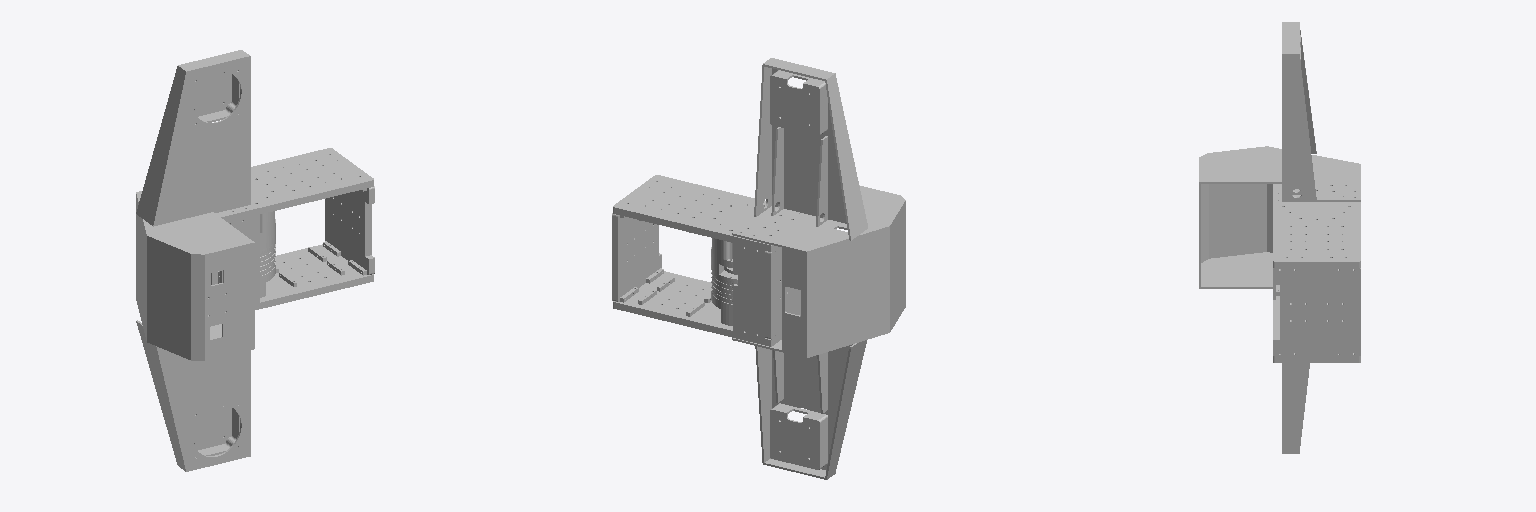
The model's file is lift.obj.
The picture shows the model from 3 angles: view 1: azimuth 30°, elevation 25°; view 2: azimuth 150°, elevation 25°; view 3: azimuth 270°, elevation 25°; orthographic projection.
Parts seen in each view (by area): view 1: lift; view 2: lift; view 3: lift.
Part boxes in pixels (bbox=[...]): lift: bbox=[136, 50, 374, 471]; lift: bbox=[612, 58, 905, 479]; lift: bbox=[1199, 22, 1360, 453].
Size of the model in its own units: 0.3624 by 0.6 by 0.22.